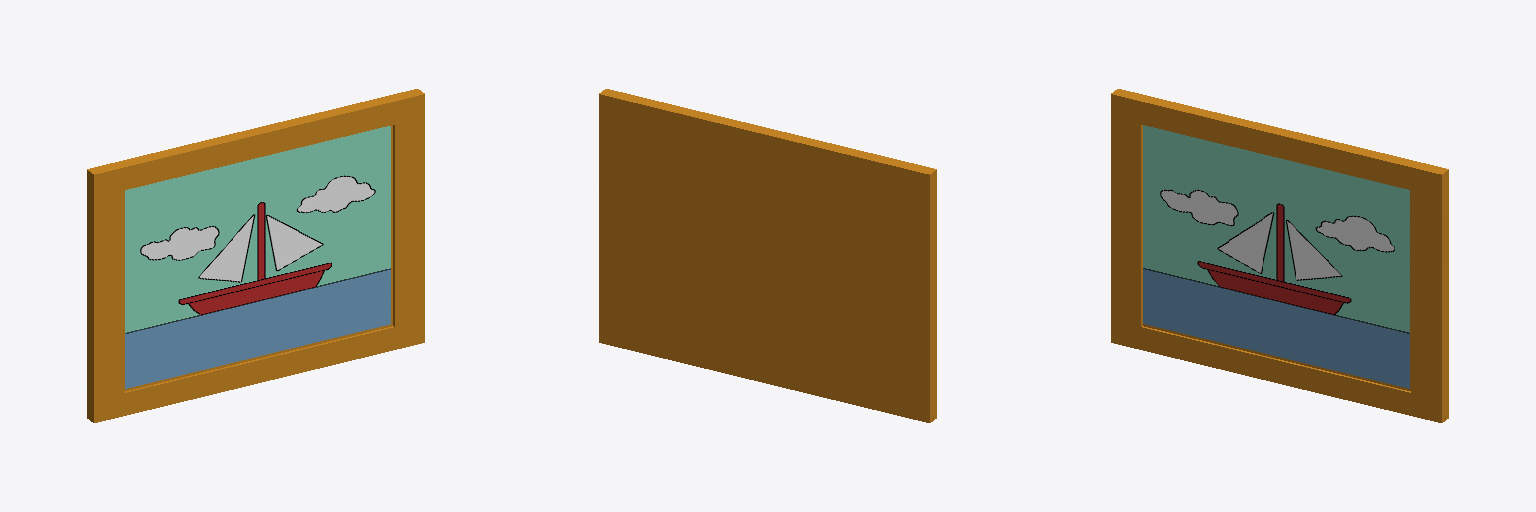
3 renders of one model, left to right at view 1: azimuth 30°, elevation 25°; view 2: azimuth 150°, elevation 25°; view 3: azimuth 330°, elevation 25°, orthographic.
Parts seen in each view (by area): view 1: Cube.006_Cube.017; view 2: Cube.006_Cube.017; view 3: Cube.006_Cube.017.
Part boxes in pixels (bbox=[...]): Cube.006_Cube.017: bbox=[87, 89, 424, 422]; Cube.006_Cube.017: bbox=[599, 89, 936, 422]; Cube.006_Cube.017: bbox=[1111, 89, 1448, 422].
Bounding box in the file's own units: 8.73 × 6.26 × 0.3431.
1 materials, 1 textured.